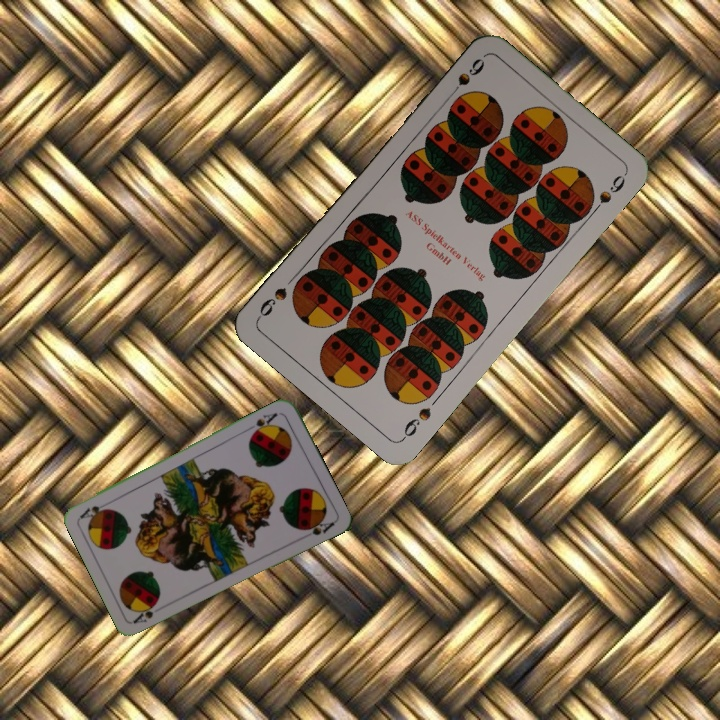S9: (443, 54, 488, 102), (398, 403, 434, 443)
SA: (248, 409, 280, 438), (129, 598, 161, 626)
